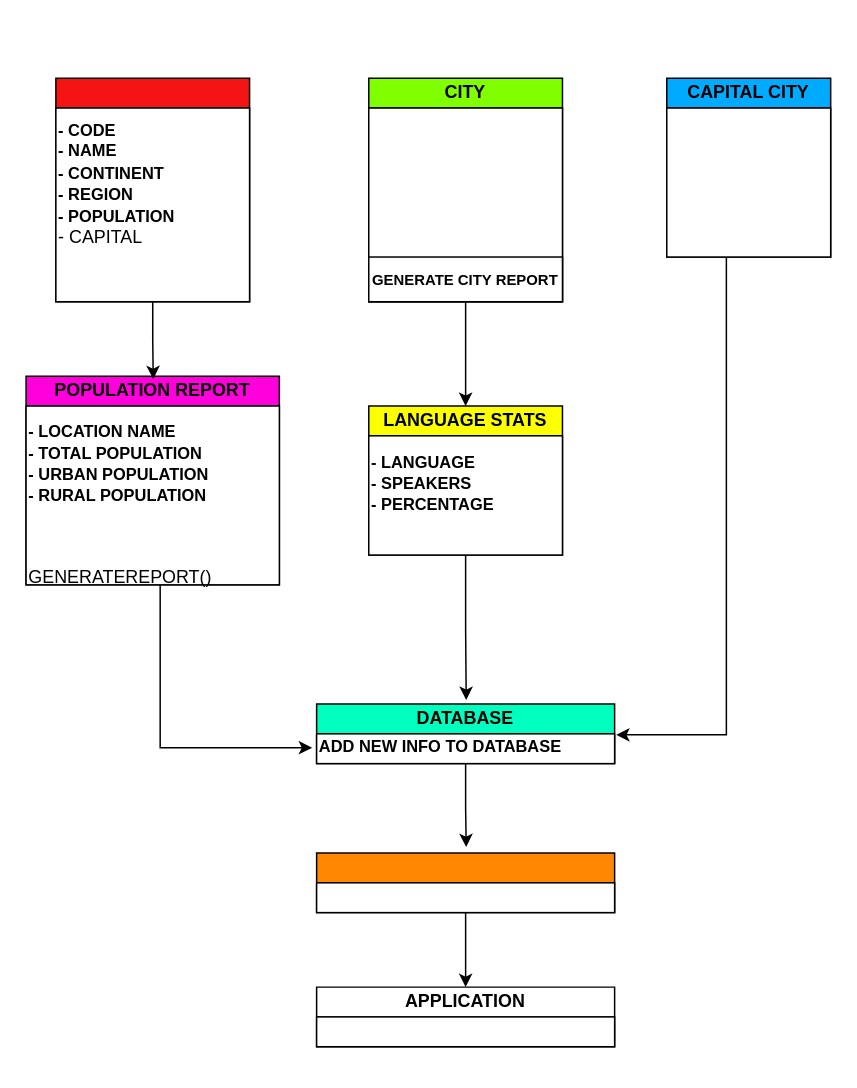
The diagram is 857 pixels wide and 1088 high, and some of its shapes have lost their labels. The box of each missing label's shape, as (x1, y1, x2, y2) in pixels:
- NAME - COUNTRY - DISTRICT - POPULATION: (367, 107, 562, 302)
- NAME - COUNTRY - POPULATION: (665, 107, 831, 257)
ADDITIONAL FUNCTIONALITY: (315, 1015, 615, 1047)
AUTHENTICATE USER: (315, 881, 615, 913)
COUNTRY: (54, 77, 250, 302)
SECURITY MANAGER: (315, 852, 615, 913)
